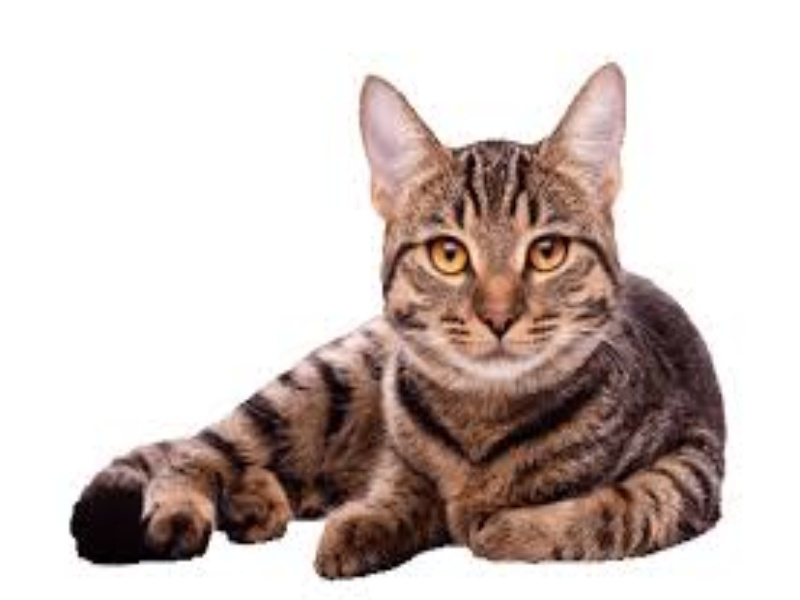cat: (68, 50, 734, 586)
